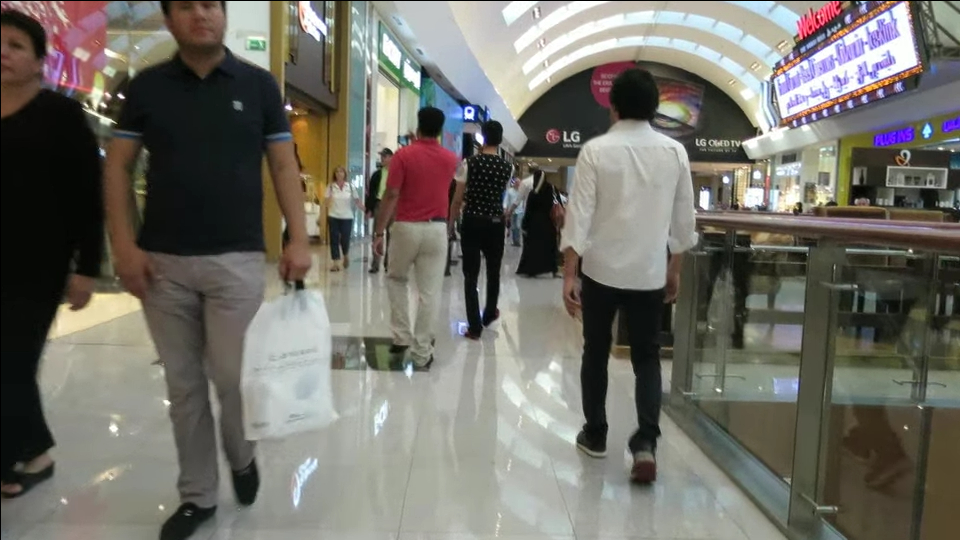pedestrian: (107, 1, 316, 538), (547, 68, 712, 483), (1, 1, 103, 502), (375, 103, 463, 373), (449, 118, 514, 345), (359, 140, 407, 277), (520, 167, 563, 281), (321, 160, 358, 277), (514, 161, 555, 262)
